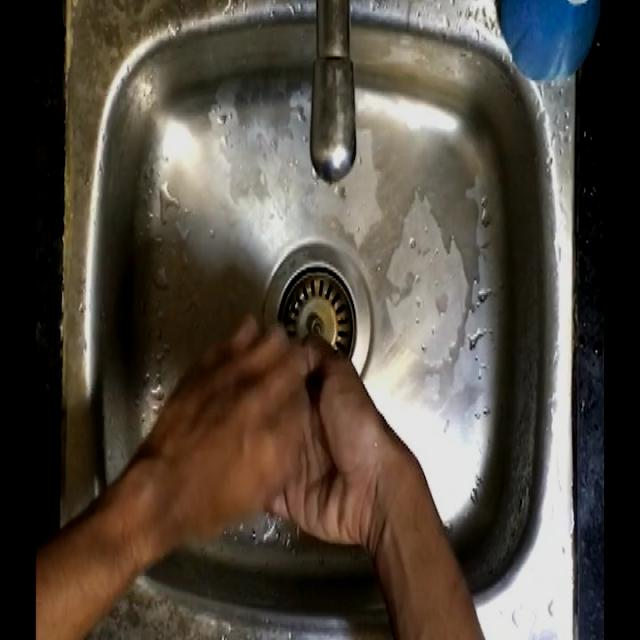step_4: (159, 310, 386, 550)
